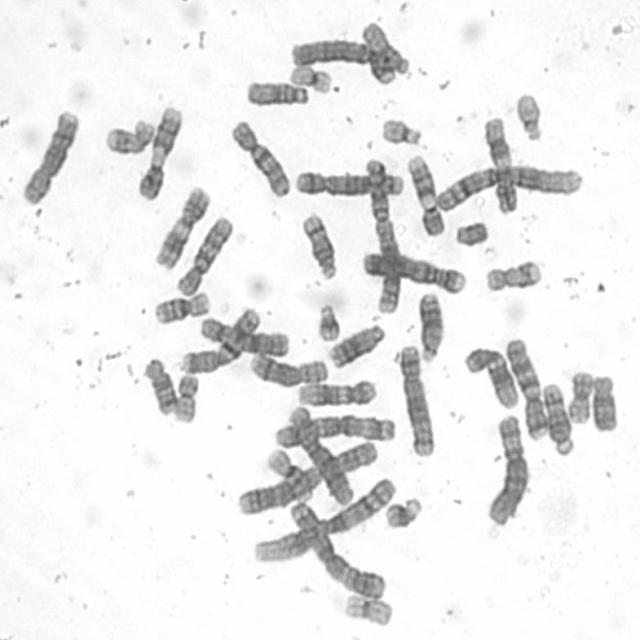A1: (248, 470, 399, 564), (430, 158, 584, 215)
A2: (230, 434, 380, 516), (358, 150, 404, 316)
A3: (284, 494, 387, 600), (271, 408, 398, 448)
B4: (356, 244, 469, 296), (285, 32, 407, 80)
B5: (392, 339, 438, 458), (289, 164, 407, 198)
C10: (225, 112, 293, 200), (170, 209, 236, 298)
C11: (149, 180, 212, 272), (478, 110, 519, 216)
C12: (458, 340, 520, 410), (292, 373, 379, 407)
C6: (283, 400, 355, 507), (480, 408, 530, 528)
C7: (175, 300, 262, 376), (499, 331, 548, 441)
C8: (17, 103, 82, 206), (245, 347, 330, 387)
C9: (132, 100, 184, 202), (402, 148, 448, 237)
D13: (323, 318, 387, 370), (413, 285, 445, 364)
D14: (296, 206, 339, 282), (537, 377, 576, 458)
D15: (356, 14, 398, 86), (240, 74, 312, 108)
E16: (262, 442, 314, 504), (148, 285, 213, 326)
E17: (480, 253, 543, 294), (100, 112, 156, 156)
E18: (138, 351, 178, 416), (586, 368, 620, 434)
F19: (338, 588, 395, 628), (285, 58, 334, 95)
F20: (563, 364, 595, 426), (169, 368, 201, 424)
G21: (379, 490, 424, 531), (312, 298, 342, 342)
G22: (510, 86, 544, 142), (376, 112, 425, 146)
X: (195, 310, 291, 358)
Y: (449, 215, 490, 248)
